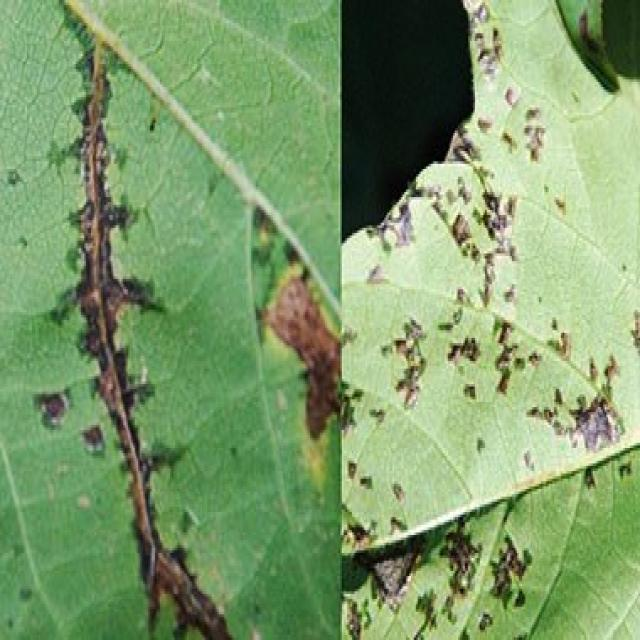Bacterial Blight: (57, 44, 258, 640), (373, 230, 594, 594)
